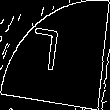L_S: (38, 28, 72, 82)
